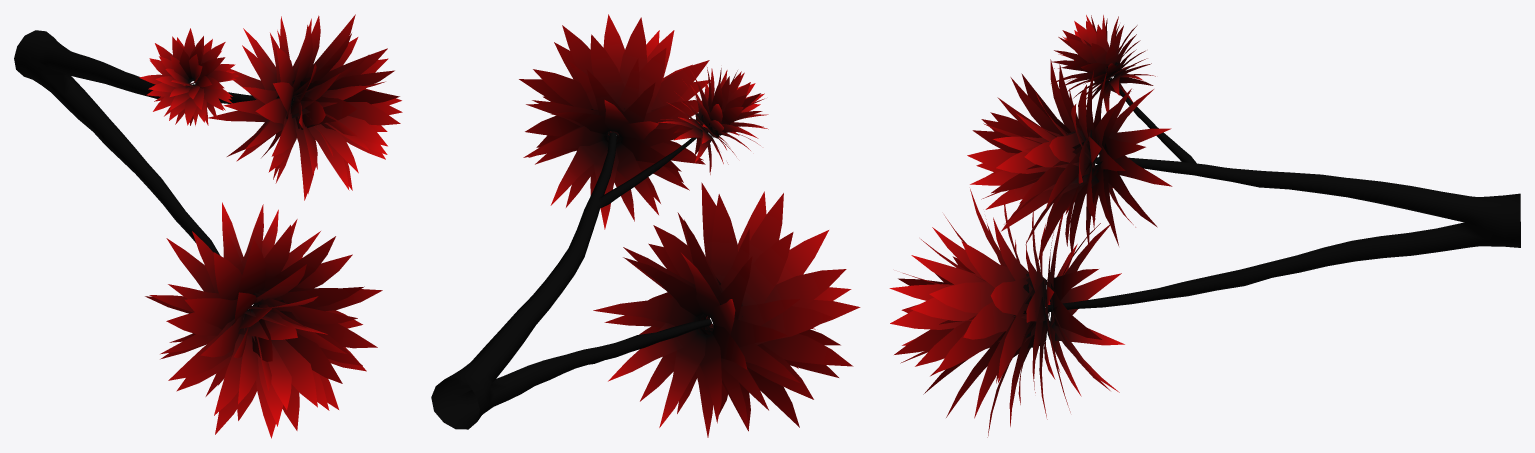
File: SM_CabbageTree.fbx
The picture shows the model from 3 angles, left to right: view 1: azimuth 30°, elevation 25°; view 2: azimuth 150°, elevation 25°; view 3: azimuth 270°, elevation 25°; orthographic projection. The views are drawn at different scales.
Visible parts, largest first — view 1: SM_CabbageTree; view 2: SM_CabbageTree; view 3: SM_CabbageTree.
Boxes of the visible parts, x1,y1,x2,y2 form: SM_CabbageTree: (14,14,402,438); SM_CabbageTree: (431,14,860,437); SM_CabbageTree: (889,15,1520,437).
Bounding box in the file's own units: 3.54 × 4.84 × 6.91.
